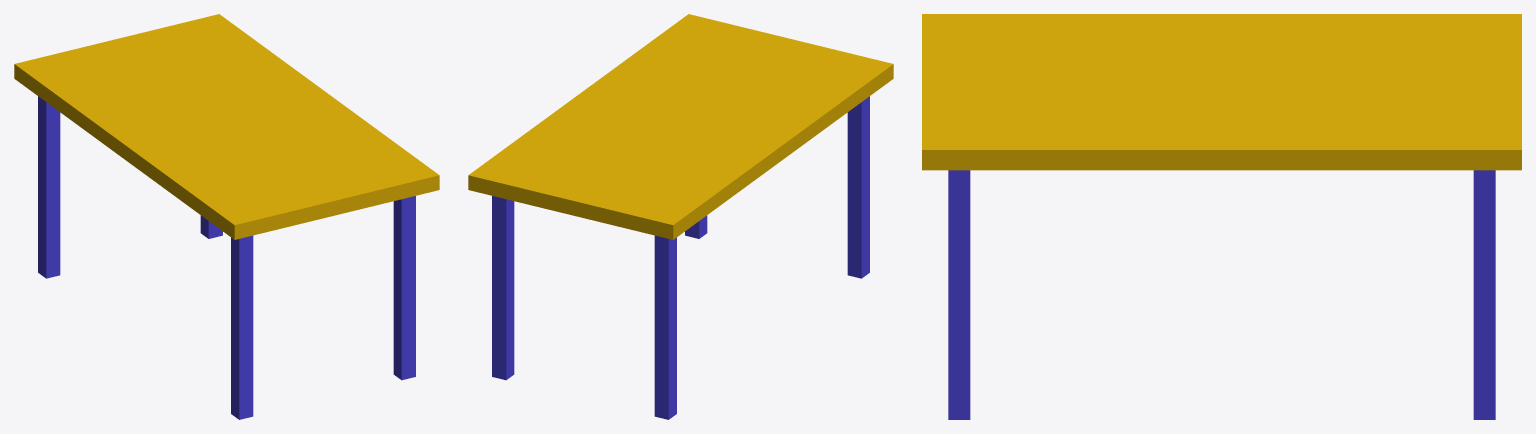
File: table.glb
The picture shows the model from 3 angles, left to right: view 1: azimuth 30°, elevation 25°; view 2: azimuth 150°, elevation 25°; view 3: azimuth 270°, elevation 25°; orthographic projection. The views are drawn at different scales.
Parts seen in each view (by area): view 1: Cube.002; view 2: Cube.002; view 3: Cube.002.
Boxes of the visible parts, x1,y1,x2,y2 form: Cube.002: (14, 14, 439, 419); Cube.002: (468, 14, 893, 419); Cube.002: (922, 14, 1521, 419).
Size of the model in its own units: 0.6681 by 0.6394 by 1.24.
